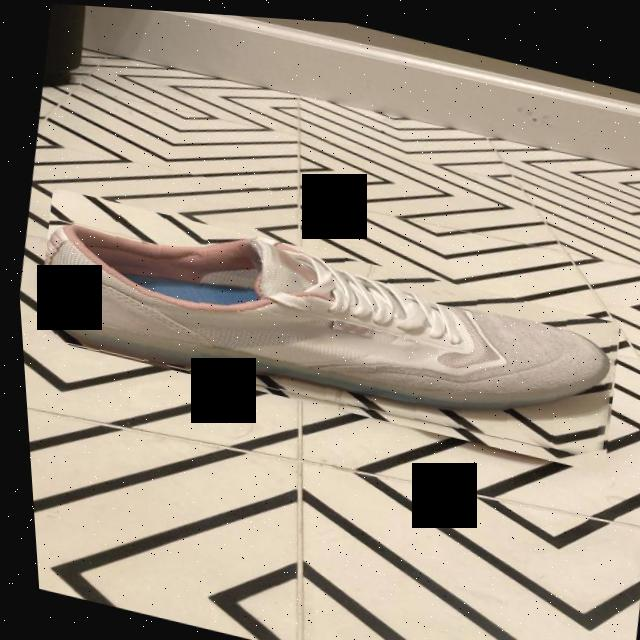shoe: (23, 185, 624, 467)
